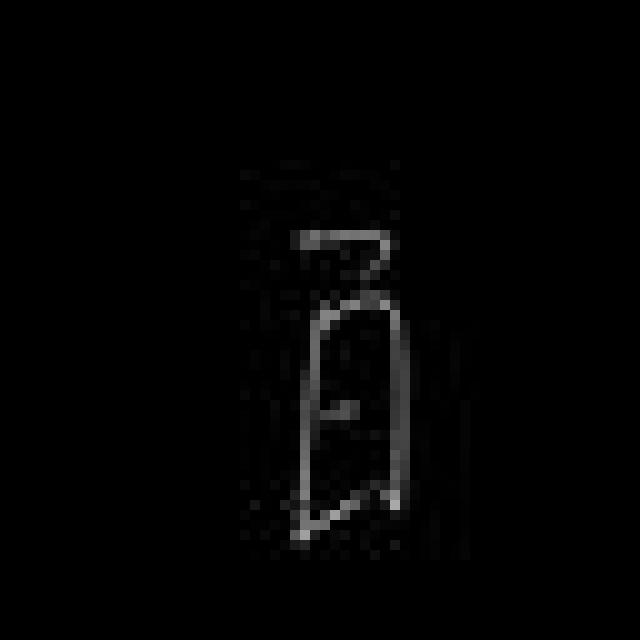100 -a hundred-: (266, 210, 422, 555)
